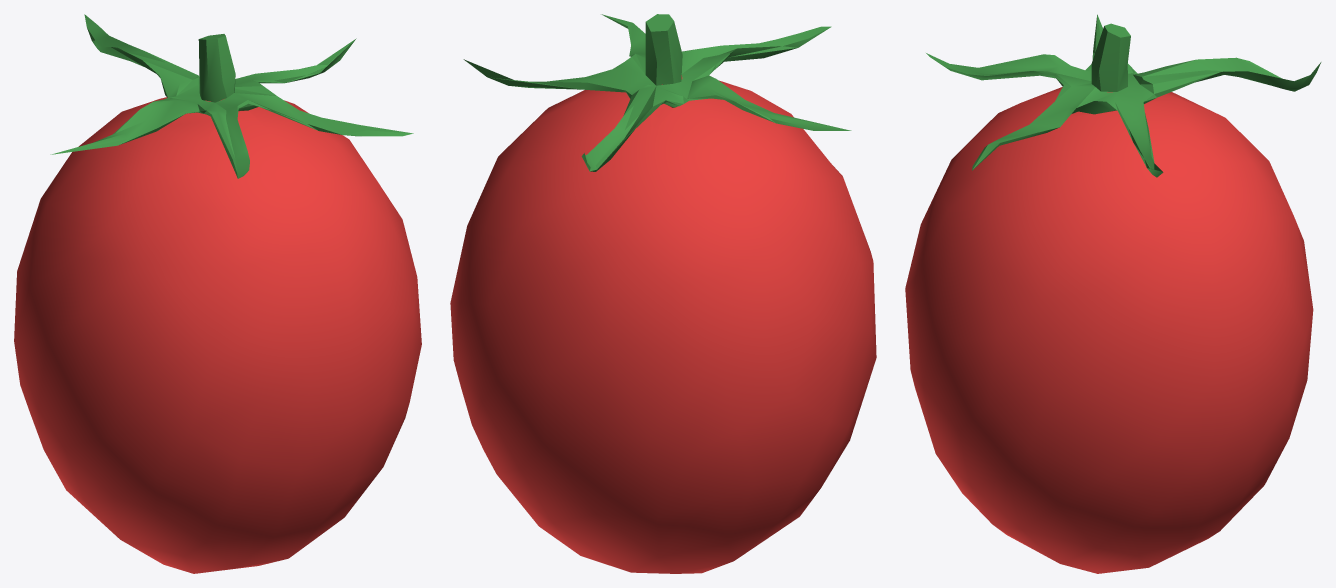
Rendered from xiaofanqie.fbx.
3 views of the same model, side by side, from view 1: azimuth 30°, elevation 25°; view 2: azimuth 150°, elevation 25°; view 3: azimuth 270°, elevation 25° (orthographic). The views are drawn at different scales.
Visible parts, largest first — view 1: Box032, Box032.001; view 2: Box032, Box032.001; view 3: Box032, Box032.001.
Boxes of the visible parts, <box> form: Box032: <box>14,97,421,573</box>; Box032.001: <box>50,14,413,178</box>; Box032: <box>450,75,876,573</box>; Box032.001: <box>463,14,851,171</box>; Box032: <box>905,87,1313,573</box>; Box032.001: <box>926,14,1321,177</box>.
Size of the model in its own units: 29.24 by 42.11 by 29.85.
